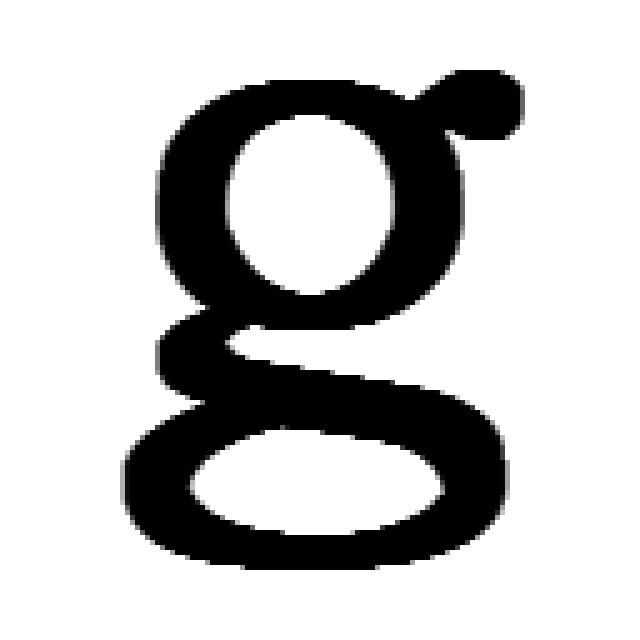G: (124, 62, 526, 565)
